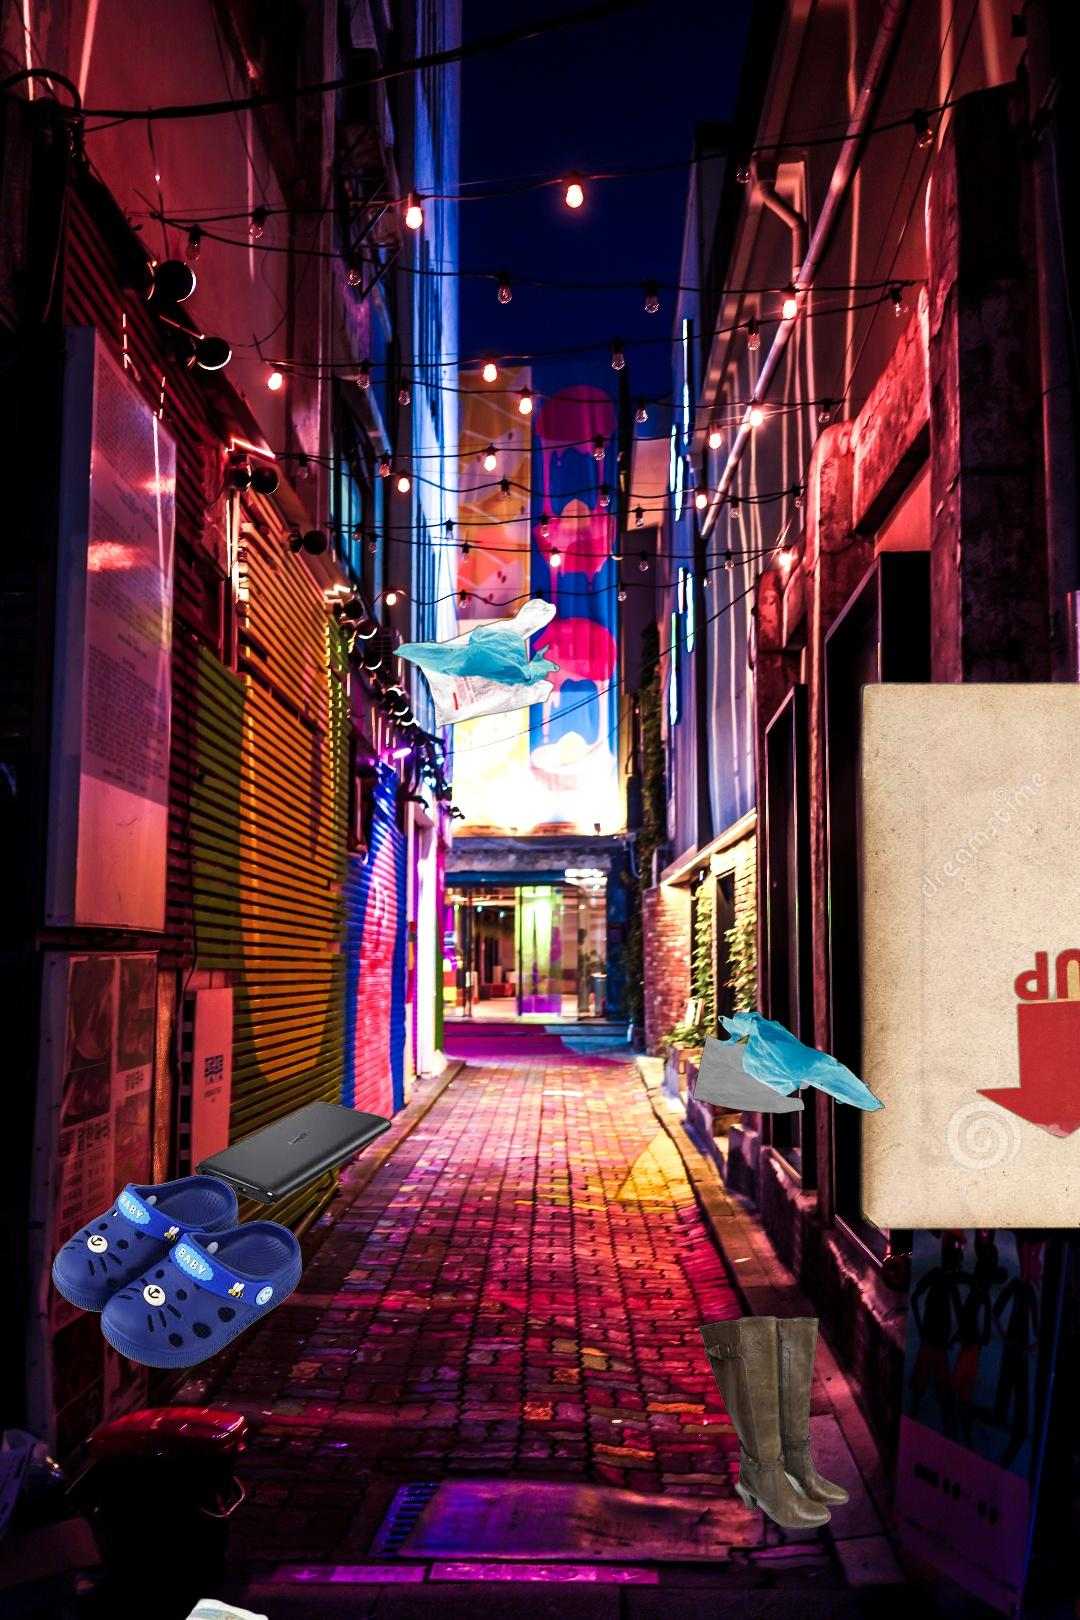battery: (192, 1099, 395, 1208)
plastic-bag: (391, 597, 563, 730), (689, 1008, 888, 1117)
shoes: (49, 1173, 304, 1370), (695, 1313, 852, 1531)
trash: (135, 1595, 298, 1620)
trashbox-cardboard: (834, 665, 1080, 1237), (976, 945, 1080, 1141)
